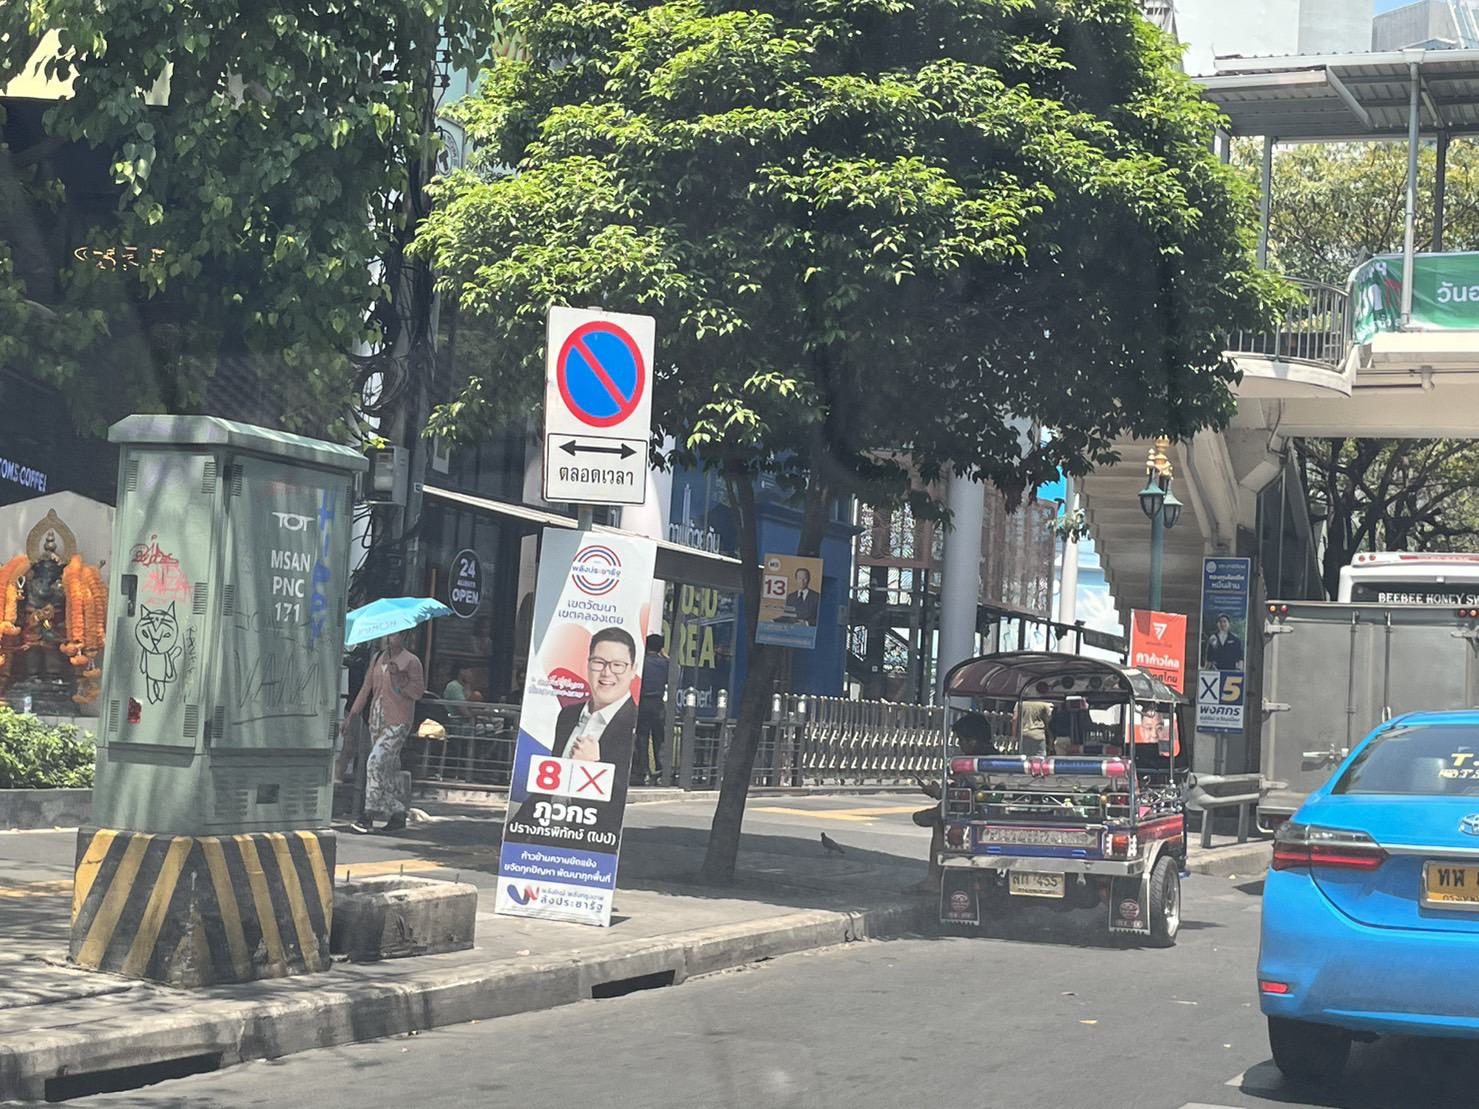Banner: (479, 507, 638, 926)
